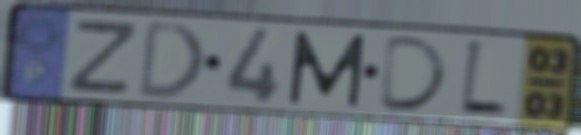4: (222, 26, 284, 107)
D: (374, 33, 453, 114), (134, 17, 209, 102)
L: (456, 36, 511, 121)
M: (286, 29, 370, 110)
Z: (62, 19, 143, 97)
